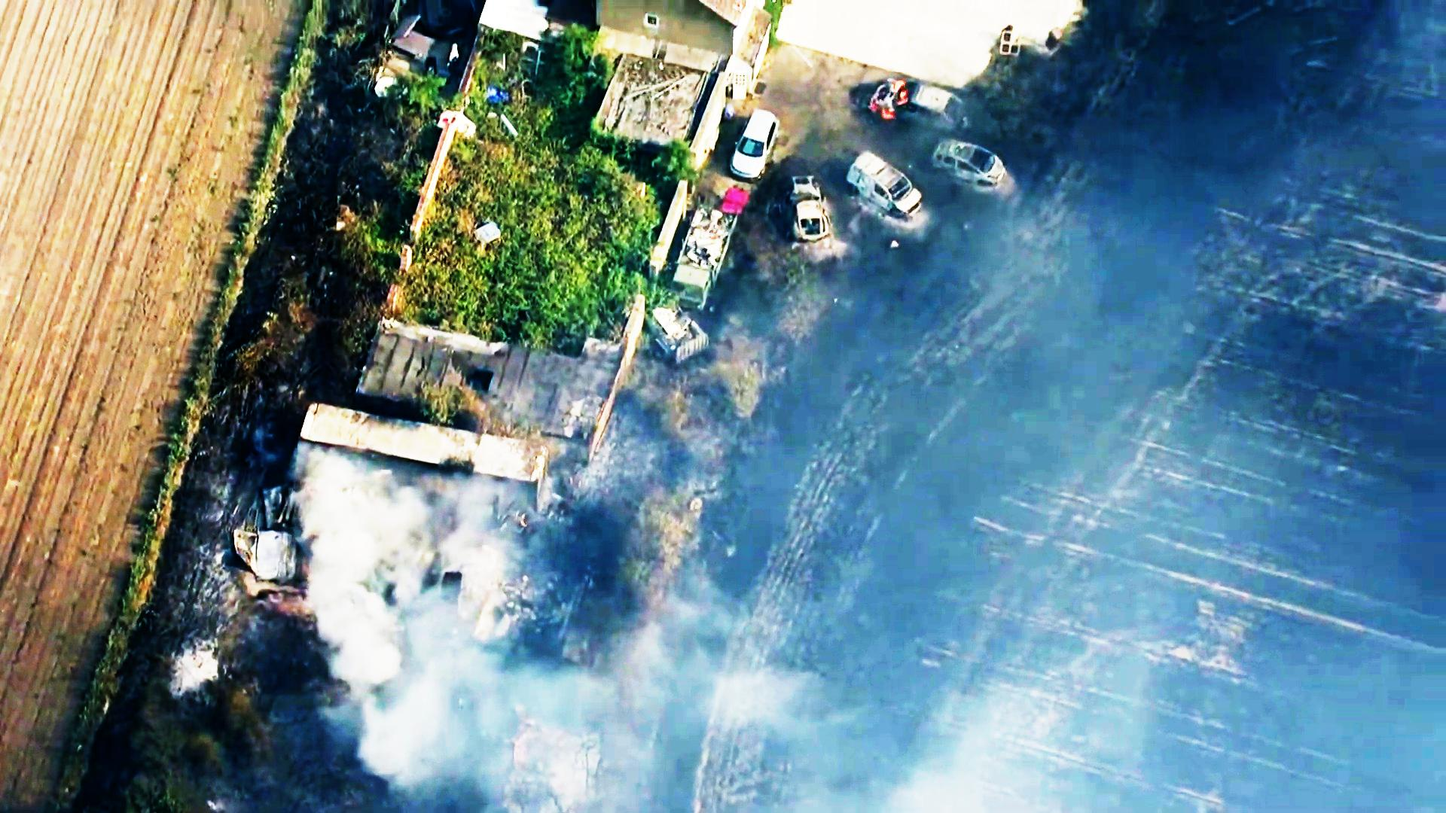smoke: (296, 562, 420, 710), (283, 465, 420, 578)
